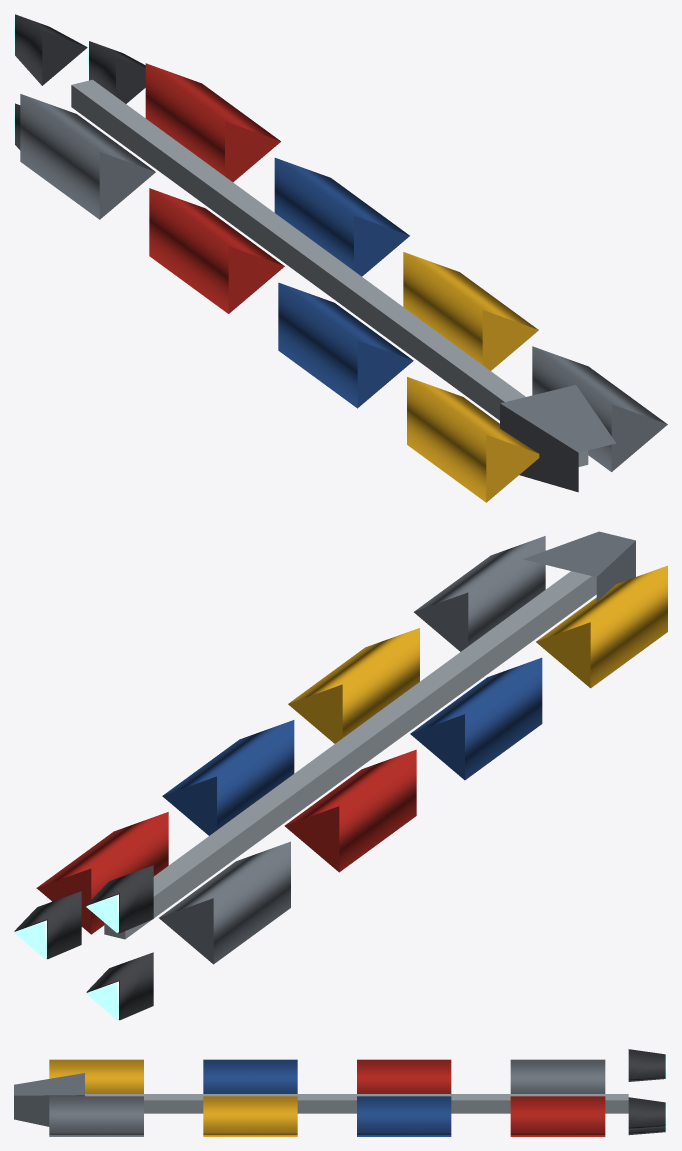
File: space_ship_logistics_mk3_lod2.glb
The picture shows the model from 3 angles, top to bottom: view 1: azimuth 30°, elevation 25°; view 2: azimuth 150°, elevation 25°; view 3: azimuth 270°, elevation 25°; orthographic projection. The views are drawn at different scales.
Parts seen in each view (by area): view 1: body, pod_0_0, pod_1_0, pod_2_0, pod_3_0, pod_0_1, pod_1_1, pod_2_1, pod_3_1, engine_1, engine_0; view 2: body, pod_2_0, pod_1_0, pod_0_0, pod_3_0, pod_1_1, pod_2_1, pod_3_1, pod_0_1, engine_1, engine_2, engine_0; view 3: body, pod_0_1, pod_1_1, pod_2_1, pod_3_1, pod_0_0, pod_2_0, pod_1_0, pod_3_0, engine_1, engine_0, engine_2.
Part boxes in pixels (x1,y1,x2,y2): body: (71, 79, 616, 492); pod_0_0: (20, 94, 155, 219); pod_1_0: (149, 188, 284, 313); pod_2_0: (278, 282, 413, 408); pod_3_0: (407, 377, 539, 502); pod_0_1: (145, 63, 280, 182); pod_1_1: (274, 158, 409, 276); pod_2_1: (403, 252, 538, 370); pod_3_1: (532, 346, 667, 471); engine_1: (14, 14, 87, 85); engine_0: (87, 41, 145, 103); body: (104, 531, 635, 939); pod_2_0: (410, 657, 542, 780); pod_1_0: (284, 749, 416, 872); pod_0_0: (159, 841, 290, 964); pod_3_0: (536, 565, 667, 688); pod_1_1: (162, 720, 294, 835); pod_2_1: (288, 628, 419, 743); pod_3_1: (414, 536, 545, 651); pod_0_1: (36, 812, 168, 934); engine_1: (86, 865, 153, 933); engine_2: (86, 952, 153, 1020); engine_0: (14, 891, 81, 959); body: (14, 1073, 628, 1126); pod_0_1: (510, 1096, 605, 1136); pod_1_1: (357, 1096, 451, 1136); pod_2_1: (203, 1096, 297, 1136); pod_3_1: (49, 1096, 143, 1136); pod_0_0: (510, 1059, 605, 1093); pod_2_0: (203, 1059, 297, 1093); pod_1_0: (357, 1059, 451, 1093); pod_3_0: (49, 1059, 143, 1093); engine_1: (628, 1049, 667, 1081); engine_0: (628, 1097, 667, 1129); engine_2: (628, 1126, 667, 1135).
Size of the model in its own units: 6.82 by 5.18 by 35.67.
